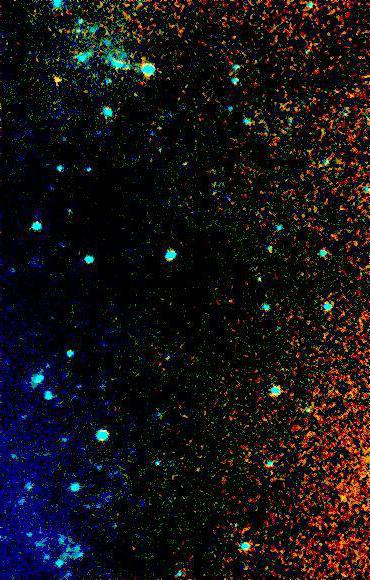star: (43, 65, 73, 95)
